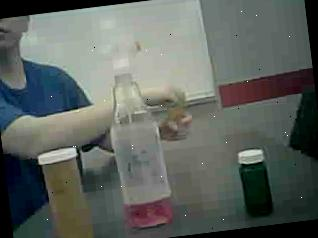Bottle A: (28, 139, 101, 238)
Bottle B: (161, 79, 196, 148)
Bottle C: (232, 142, 286, 224)
hazard: (90, 30, 177, 238)
